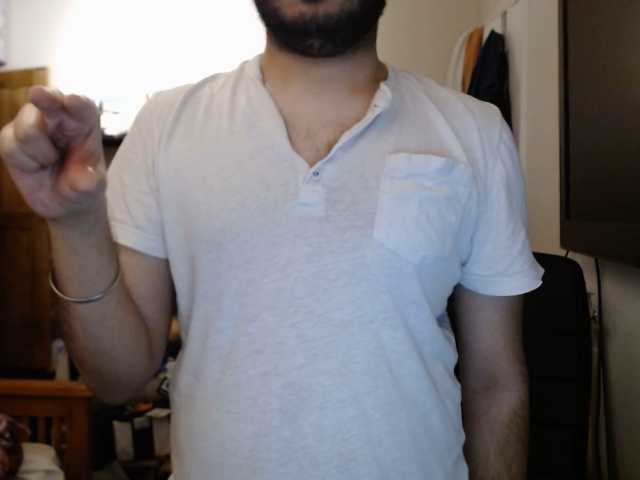No: (1, 77, 109, 236)
